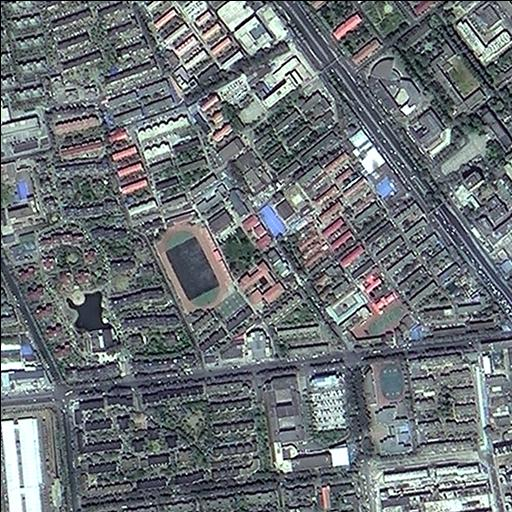school: (154, 215, 297, 314), (359, 351, 416, 457), (338, 294, 414, 341)
